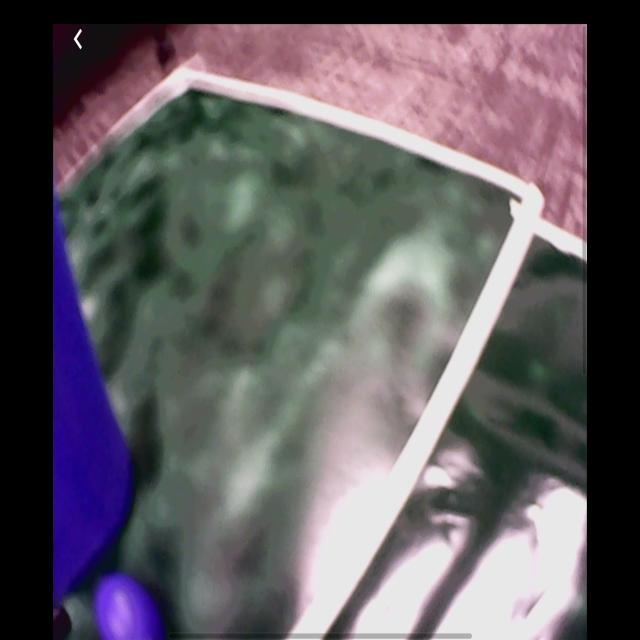ball: (95, 574, 162, 640)
